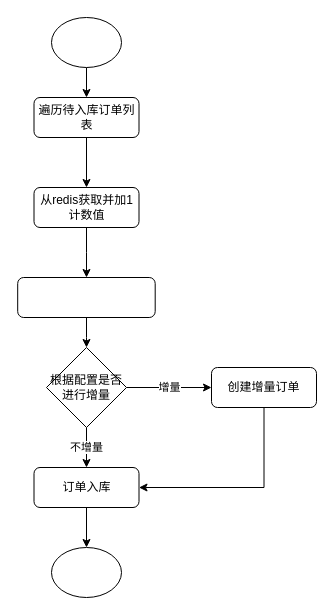
Some shapes in this 334 by 615 pixel diagram are drawn without their labels. Here are the shapes that lost their labels. From the top down, the centre of each, then its label:
the point at 86,42: 开始
the point at 86,297: 对20取模得到当前订单处于循环内的第几单
the point at 86,572: 结束
